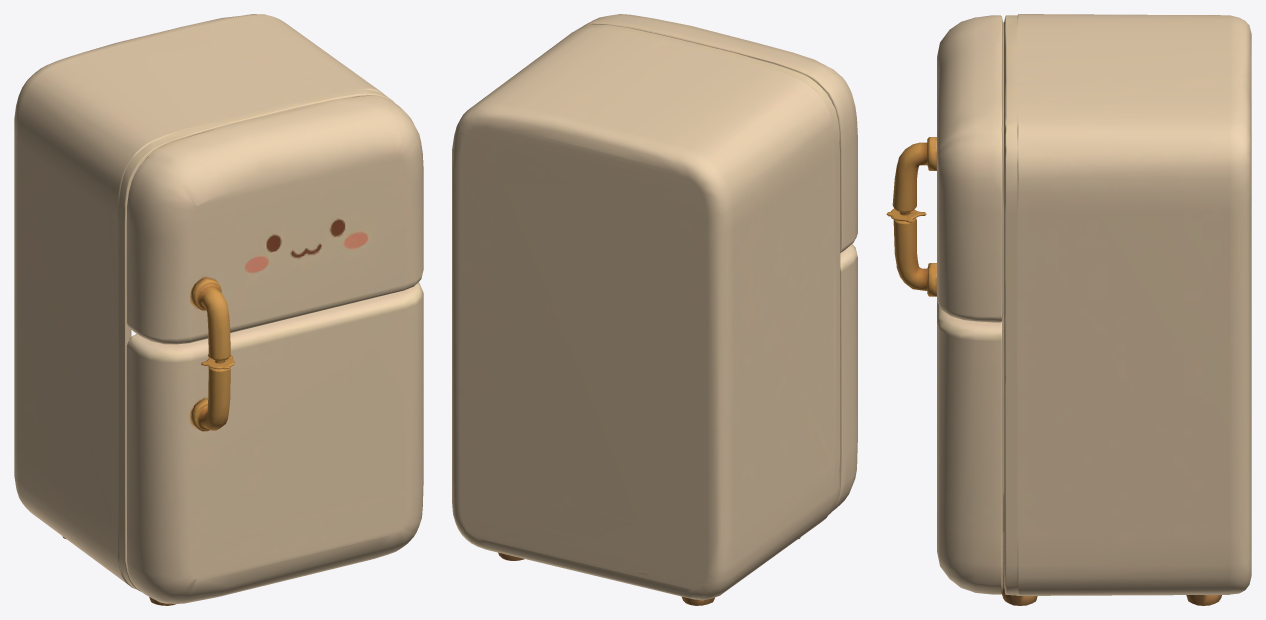
Rendered from selected.glb.
The picture shows the model from 3 angles, left to right: view 1: azimuth 30°, elevation 25°; view 2: azimuth 150°, elevation 25°; view 3: azimuth 270°, elevation 25°; orthographic projection. The views are drawn at different scales.
Visible parts, largest first — view 1: tripo_node_78e5c3ca-047e-42db-b270-392fe19567d6; view 2: tripo_node_78e5c3ca-047e-42db-b270-392fe19567d6; view 3: tripo_node_78e5c3ca-047e-42db-b270-392fe19567d6.
Part boxes in pixels (box(x1,y1,x2,y2)): tripo_node_78e5c3ca-047e-42db-b270-392fe19567d6: box(14, 14, 423, 605); tripo_node_78e5c3ca-047e-42db-b270-392fe19567d6: box(452, 14, 857, 605); tripo_node_78e5c3ca-047e-42db-b270-392fe19567d6: box(886, 14, 1251, 605).
Size of the model in its own units: 0.6309 by 0.998 by 0.6777.
Materials: 1 (1 with a texture image).
